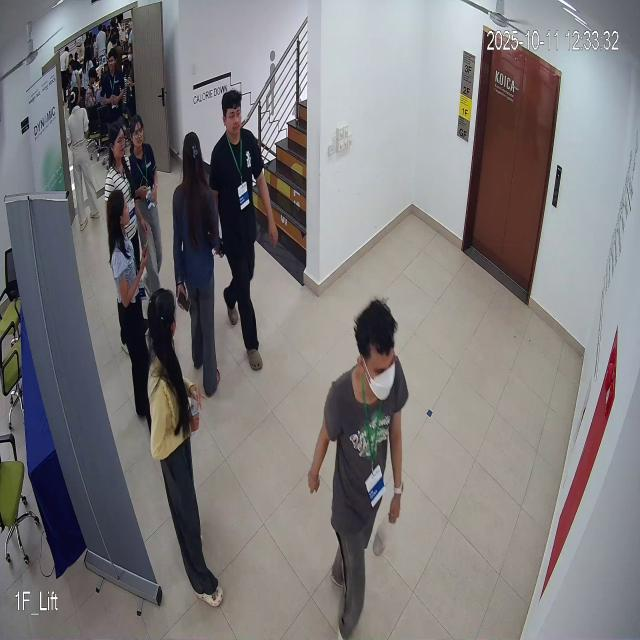face: (217, 83, 250, 143)
